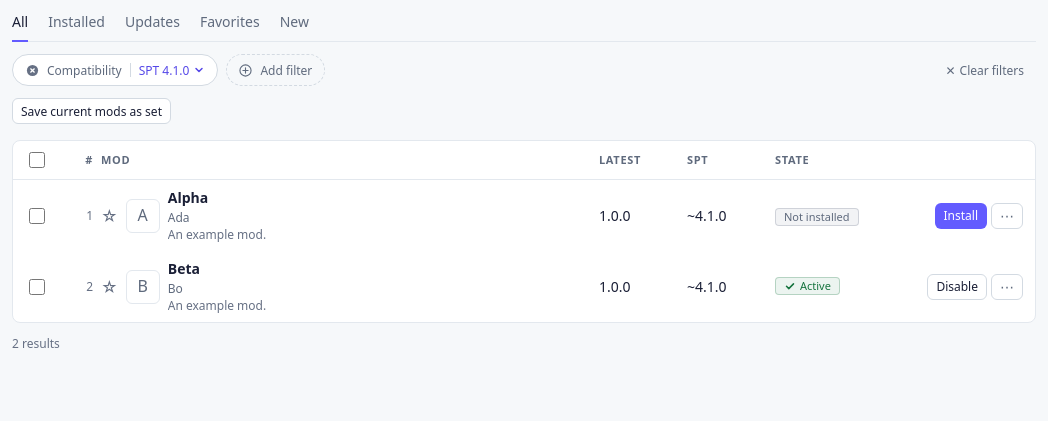
Test: selecting rows › forgets a selected row that the filter hides
This screenshot has width=1048, height=421.
What coordinates should you click on to do the following:
click the checkbox named "Select Alpha"
I would click on:
 (37, 216)
Its box is 29,208 -> 45,224.
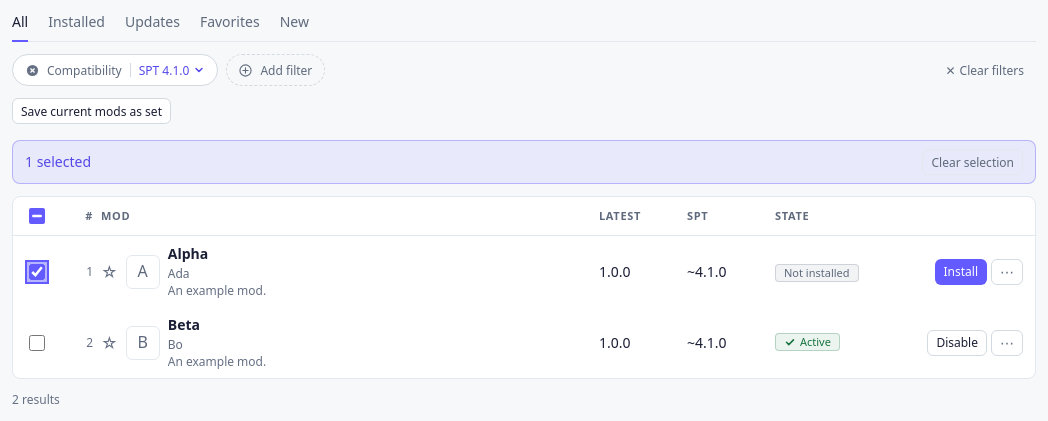
Expected: the text "1 selected" is shown, 25,152 -> 91,172
What coordinates should you click on to do the following:
click the button "Installed"
I would click on:
 (77, 27)
Its box is 48,12 -> 105,42.
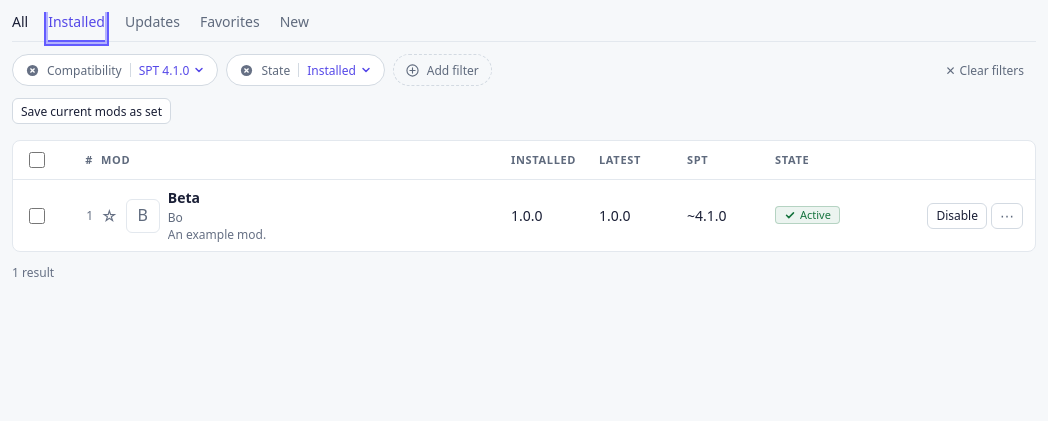
Expected: the text "1 result" is shown, 12,264 -> 54,281
Expected: the text "1 selected" is gone
